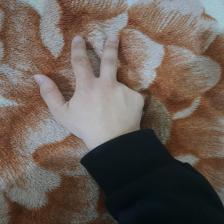three: (31, 34, 146, 140)
